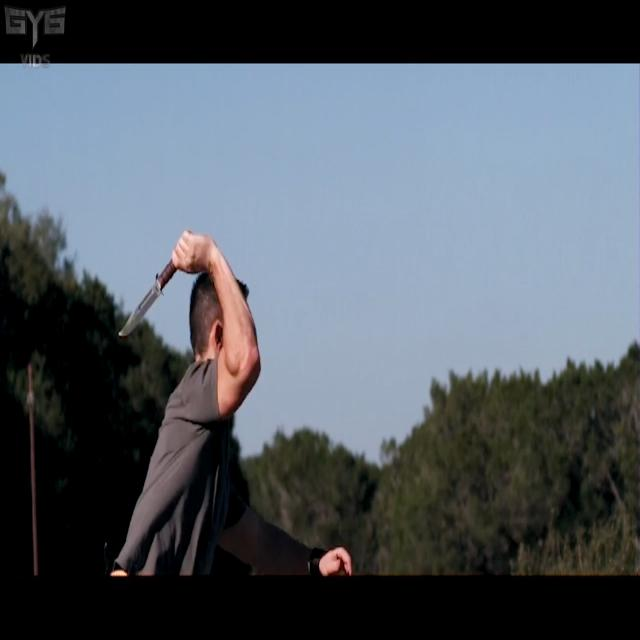knife: (118, 269, 175, 350)
